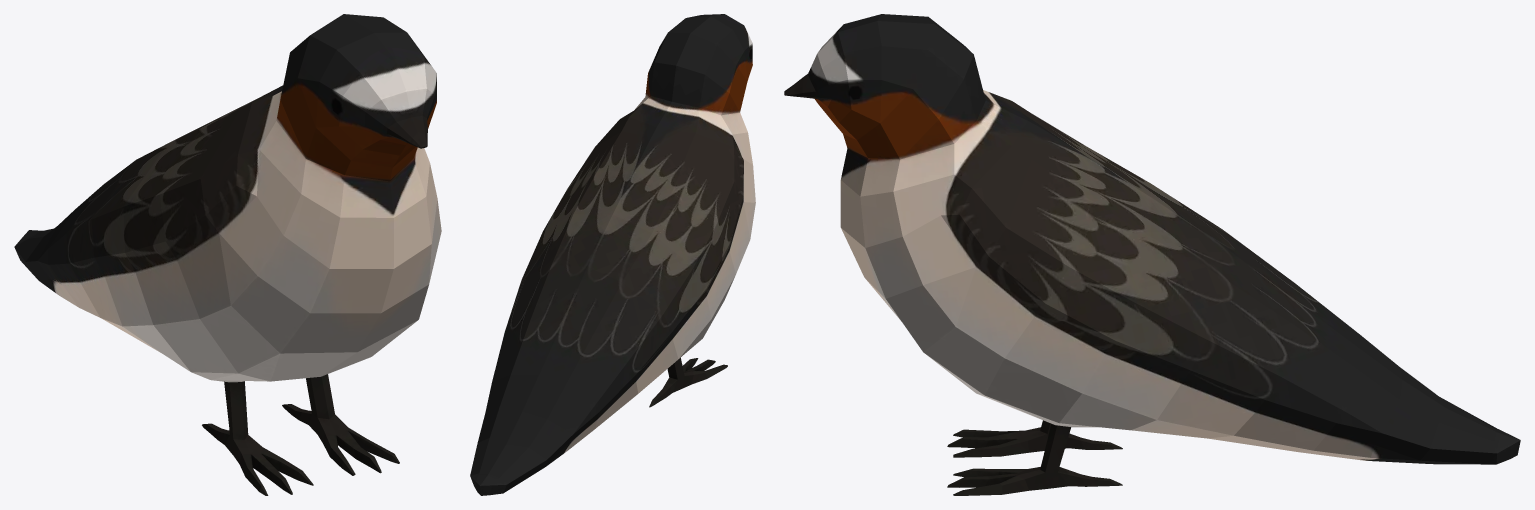
Rendered from 5dl4UWhvuTW.glb.
3 views of the same model, side by side, from view 1: azimuth 30°, elevation 25°; view 2: azimuth 150°, elevation 25°; view 3: azimuth 270°, elevation 25° (orthographic). The views are drawn at different scales.
Visible parts, largest first — view 1: CliffSwallow_Mesh; view 2: CliffSwallow_Mesh; view 3: CliffSwallow_Mesh.
Part boxes in pixels (x1,y1,x2,y2): CliffSwallow_Mesh: [14, 14, 441, 495]; CliffSwallow_Mesh: [470, 14, 755, 495]; CliffSwallow_Mesh: [784, 14, 1520, 495].
Size of the model in its own units: 0.5316 by 1 by 1.5.
Materials: 1 (1 with a texture image).
